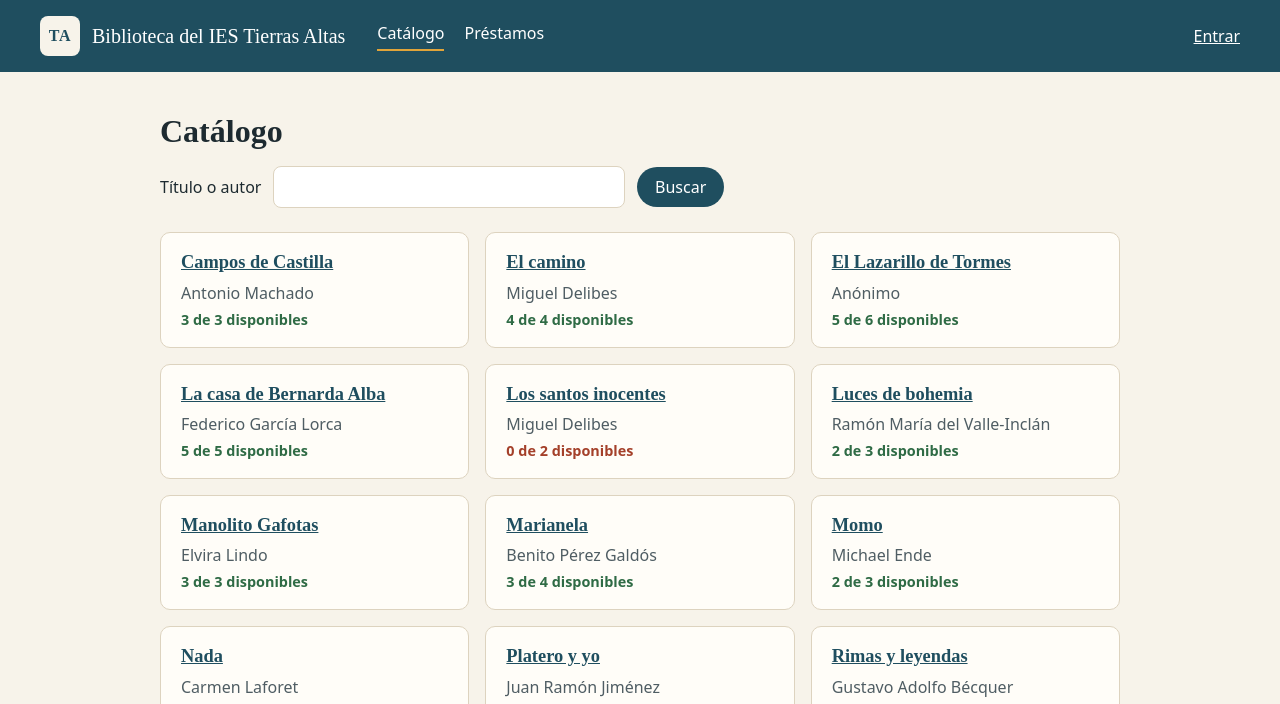
it: El catálogo › de la lista se pasa a la ficha de un libro
This screenshot has width=1280, height=704.
Click the link "Marianela" at (547, 525), box [506,515,588,535]
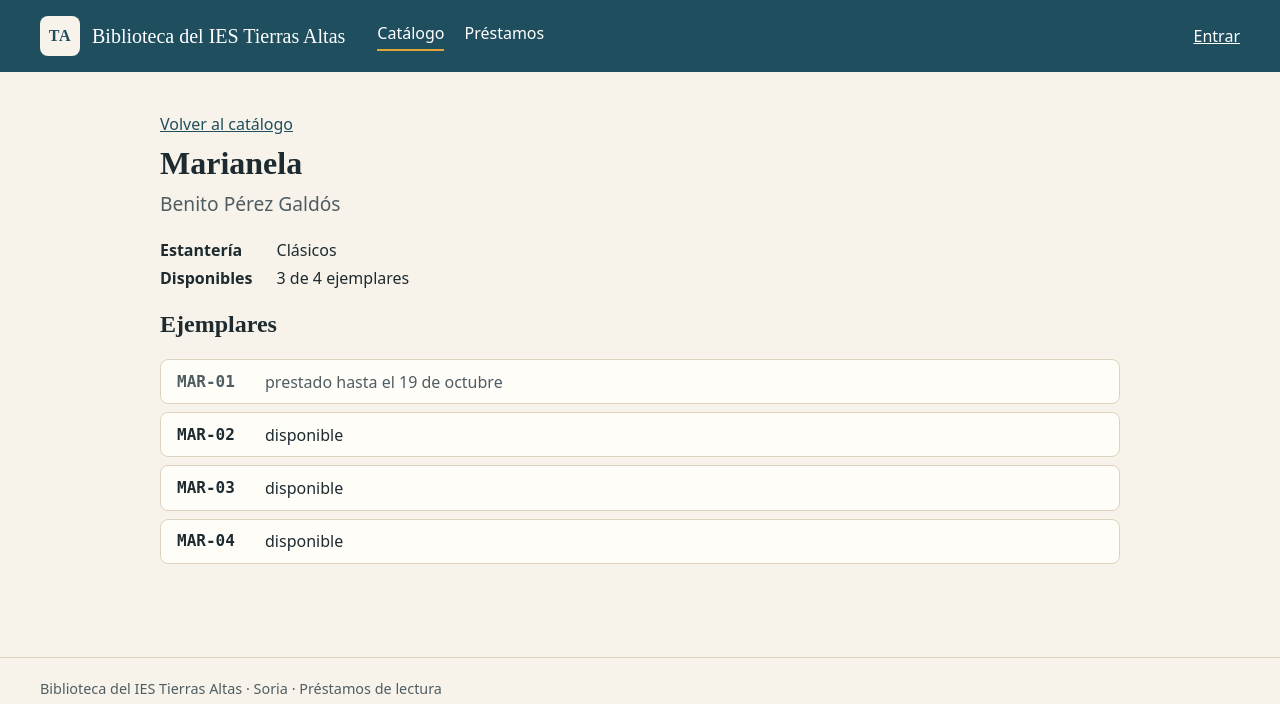
Expected: the heading "Marianela" is shown, [160,145,302,181]
